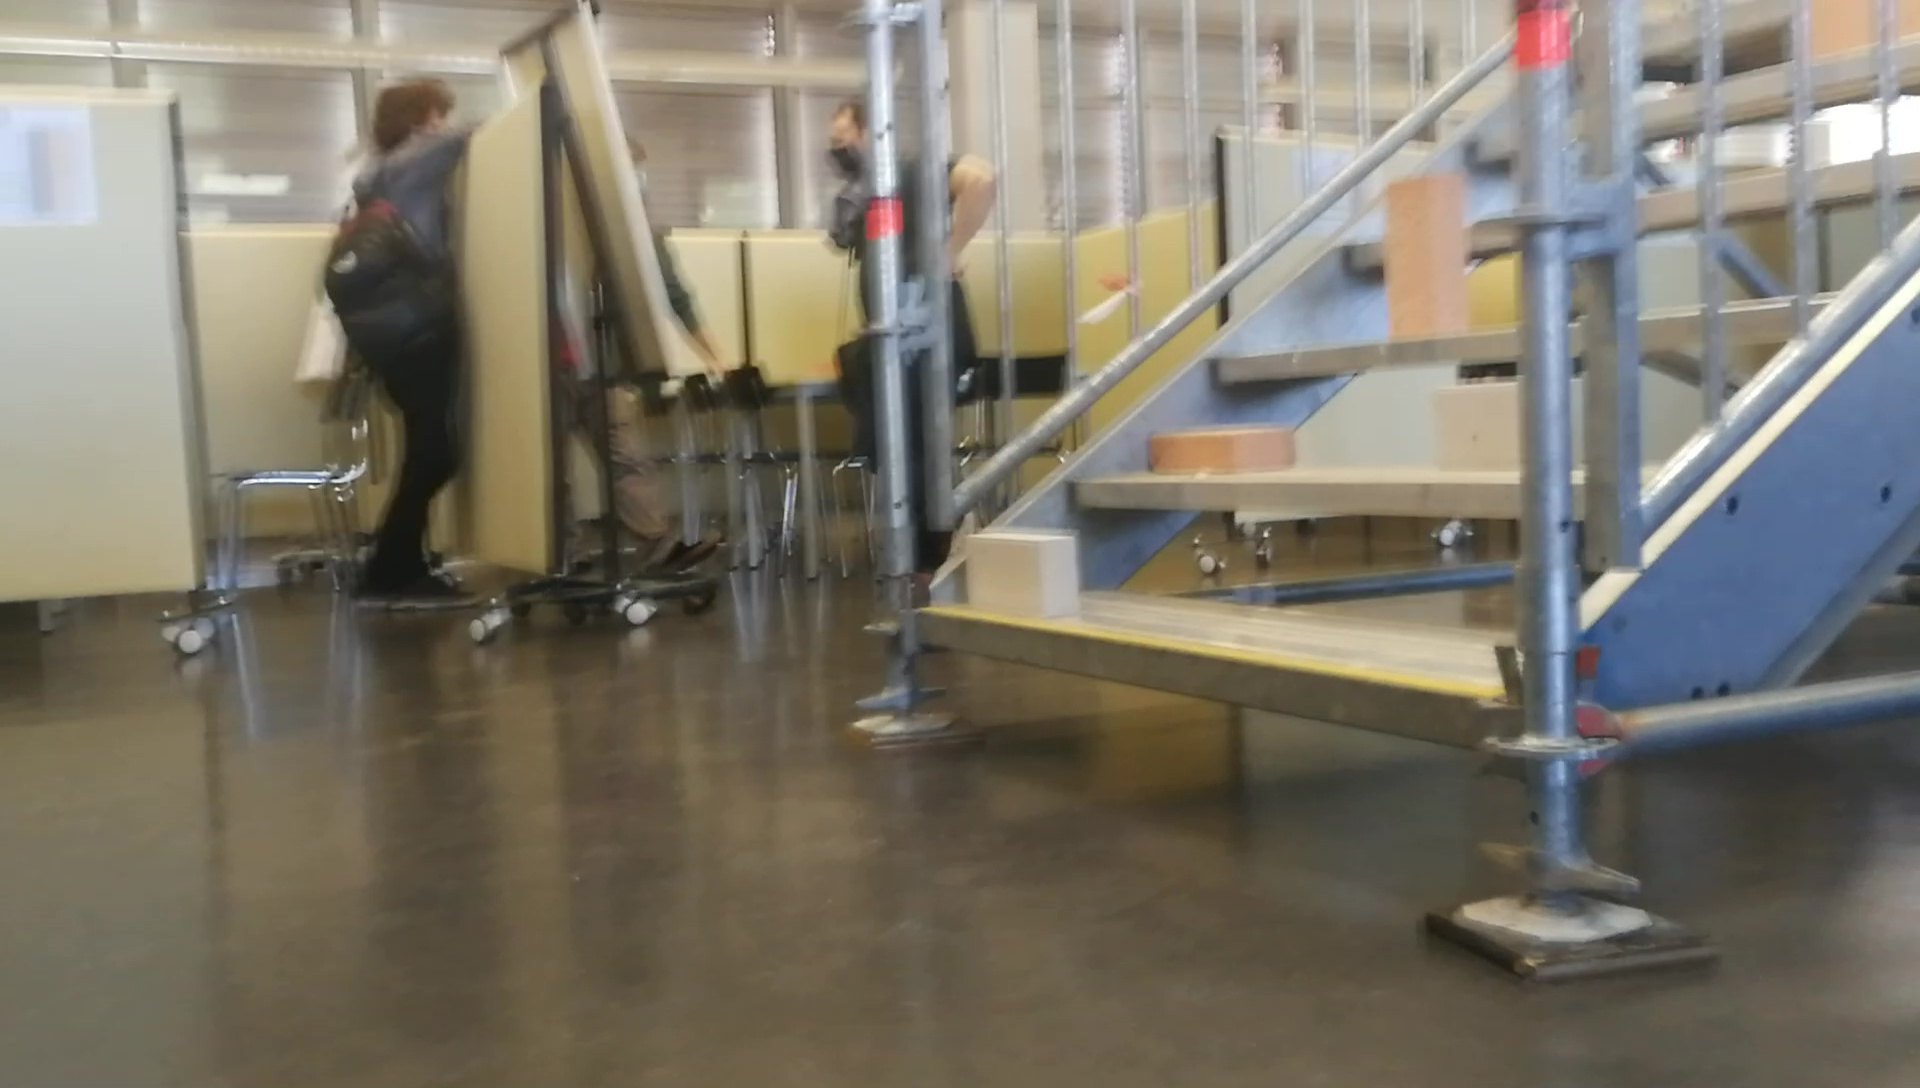brick: (1387, 175, 1466, 338), (965, 530, 1071, 617), (1440, 385, 1518, 475), (1155, 427, 1294, 472)
edge: (916, 607, 1480, 754)
stairs: (851, 0, 1553, 979)
